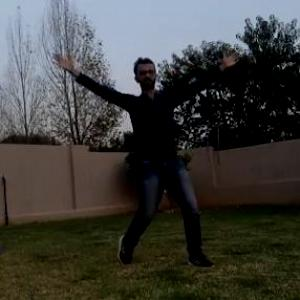takeoff: (56, 57, 230, 274)
